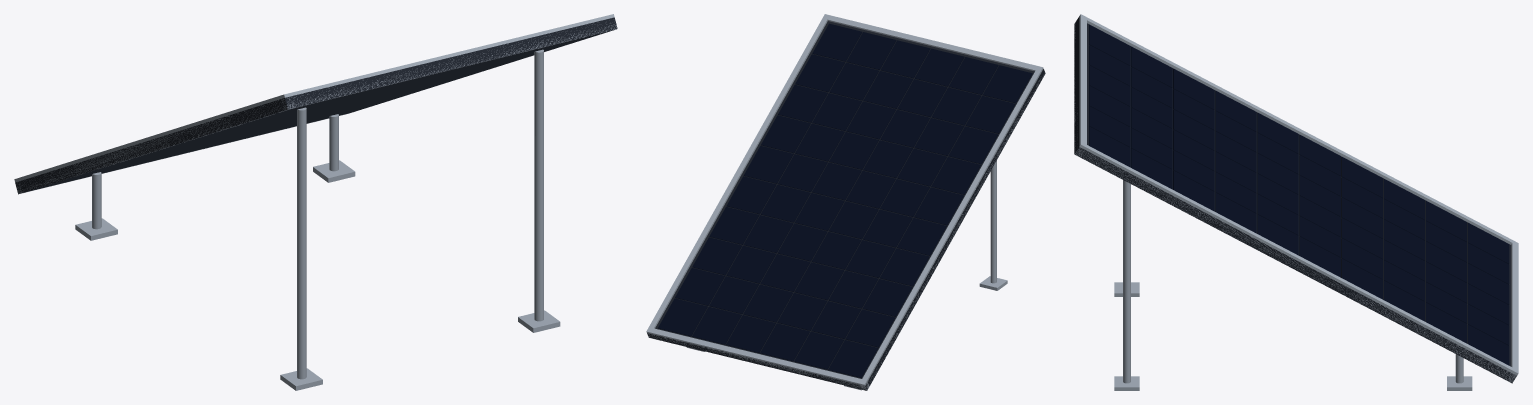
File: Napelem_tetore.obj
3 views of the same model, side by side, from view 1: azimuth 30°, elevation 25°; view 2: azimuth 150°, elevation 25°; view 3: azimuth 270°, elevation 25° (orthographic). The views are drawn at different scales.
Bounding box in the file's own units: 1.1 × 1.02 × 1.58.
